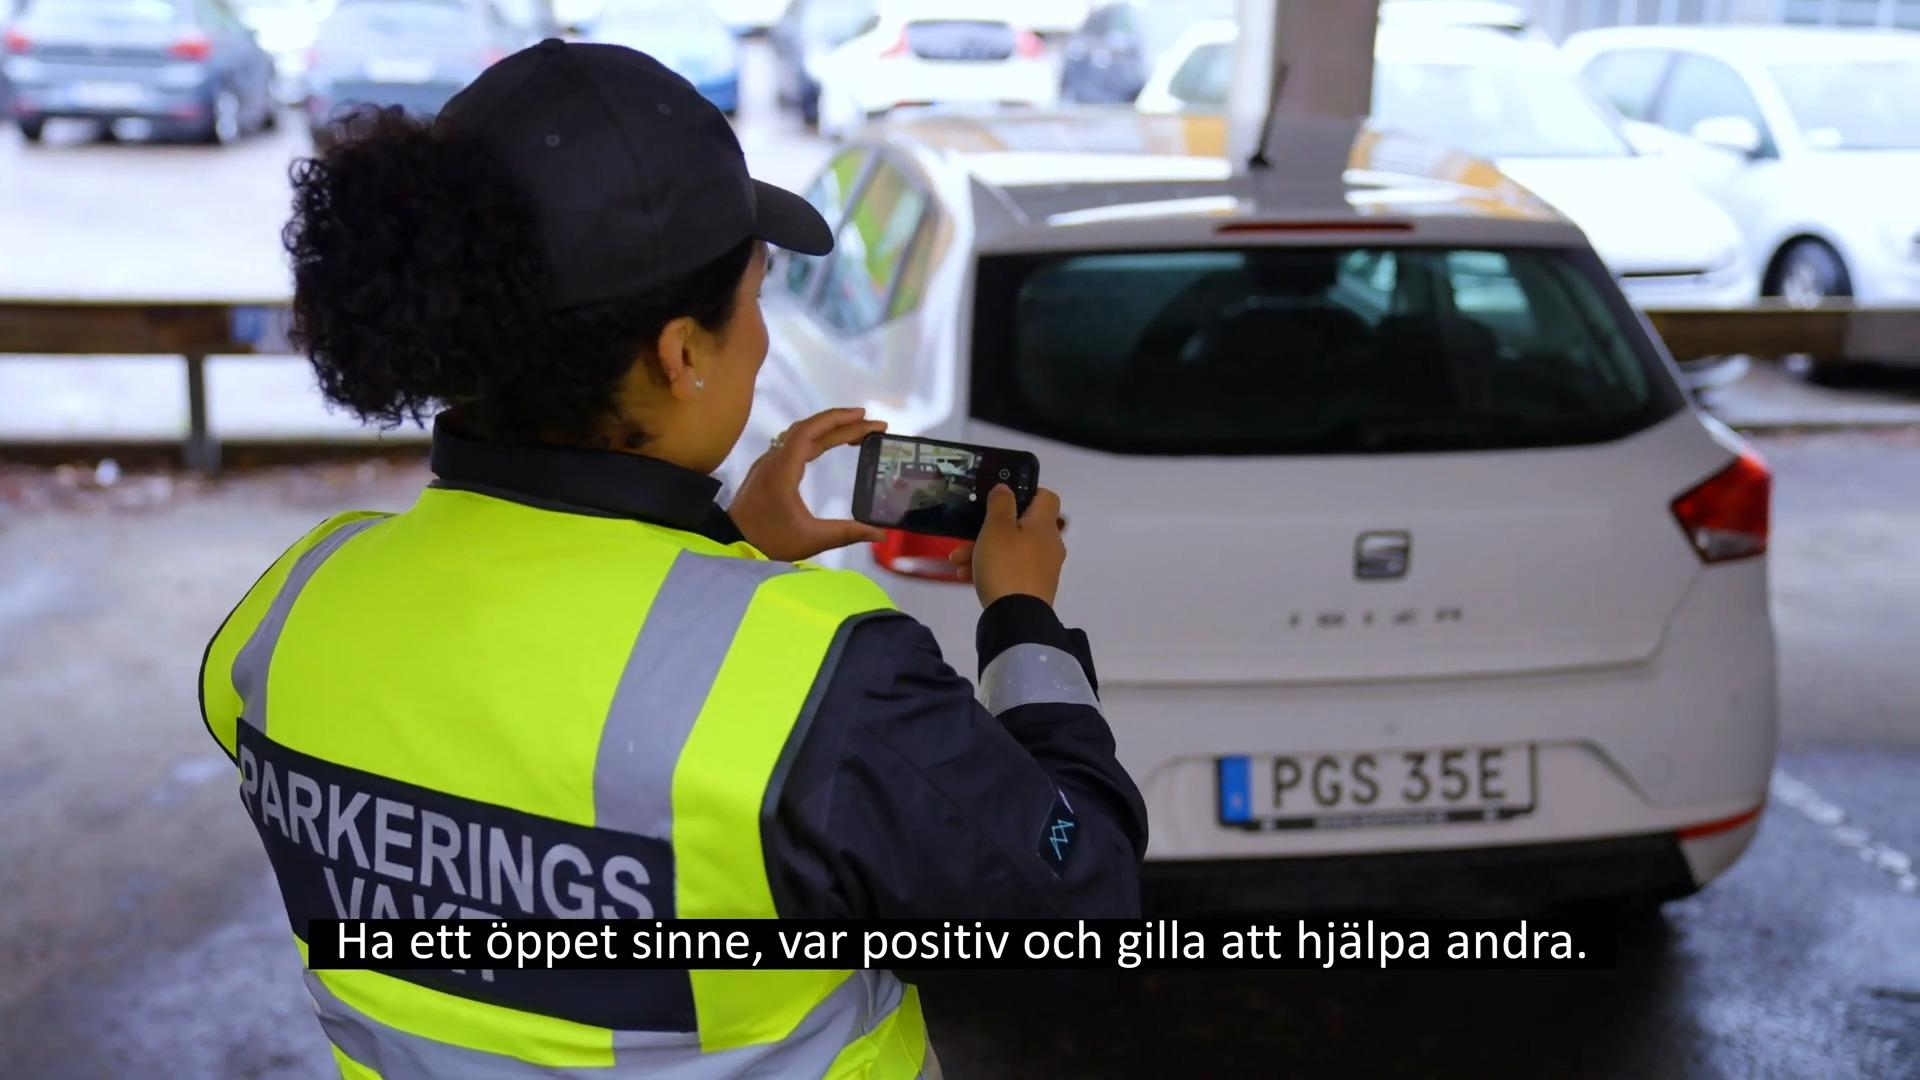parking-attendant: (202, 42, 1146, 936)
